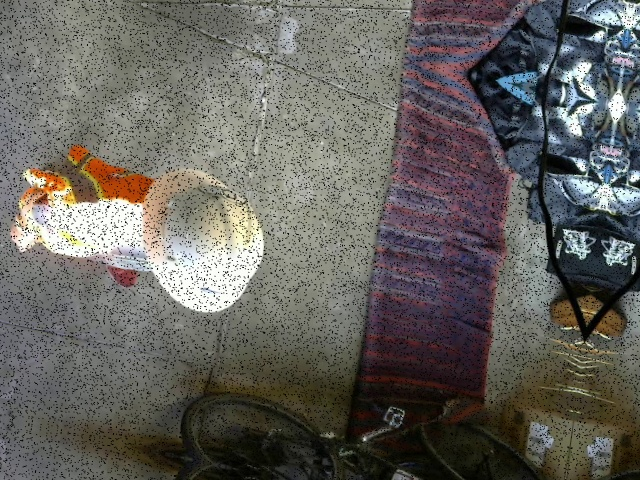eight: (195, 180, 250, 207)
